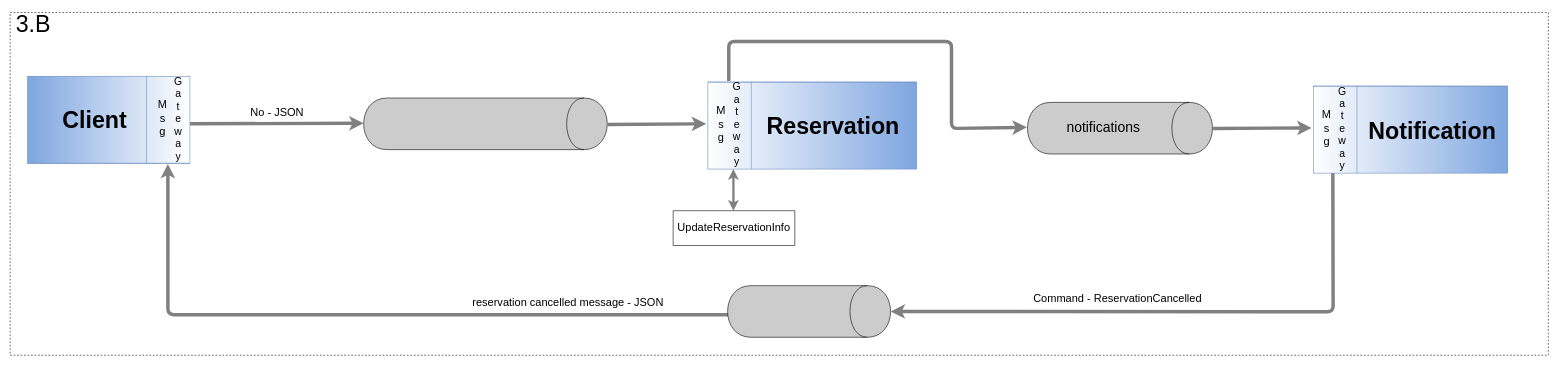
The diagram is 1558 pixels wide and 365 high, and some of its shapes have lost their labels. The shapes that lost their labels are listed below. From the top down, each one's box as (x1, y1, x2, y2) in pixels, then its label:
(363, 97, 607, 150): reservations_cancelled
(727, 285, 891, 337): notifications.send
